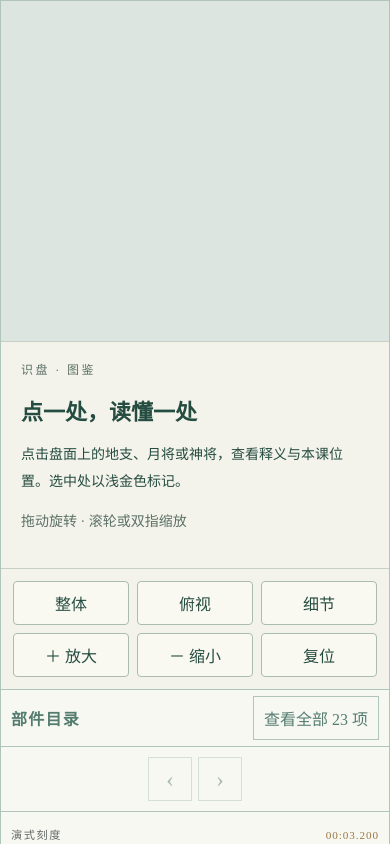
ArtifactExperience › keeps compact canvases to stage annotations and focuses parts from the complete directory
Click the button with aria-label "打开部件目录".
click(316, 718)  # box x1=253 y1=696 x2=379 y2=740
(page scrolled)
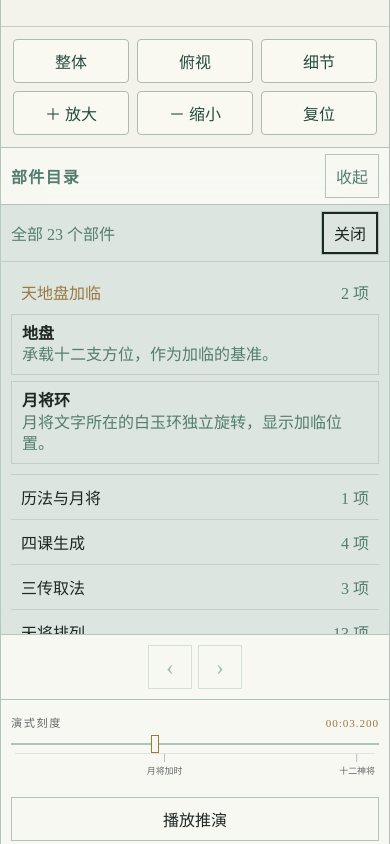
Click the button "月将环 月将文字所在的白玉环独立旋转，显示加临位置。".
click(195, 422)  # box x1=11 y1=381 x2=379 y2=464
(page scrolled)
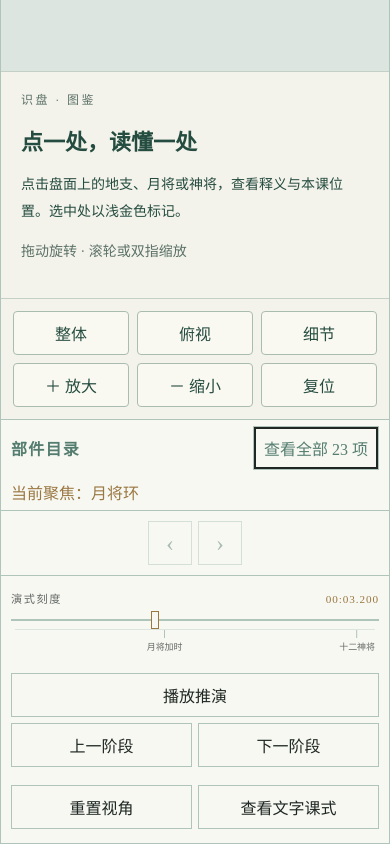
Now the dialog "全部部件" is gone
Now the text "当前聚焦：月将环" is shown, box x1=11 y1=485 x2=139 y2=502
